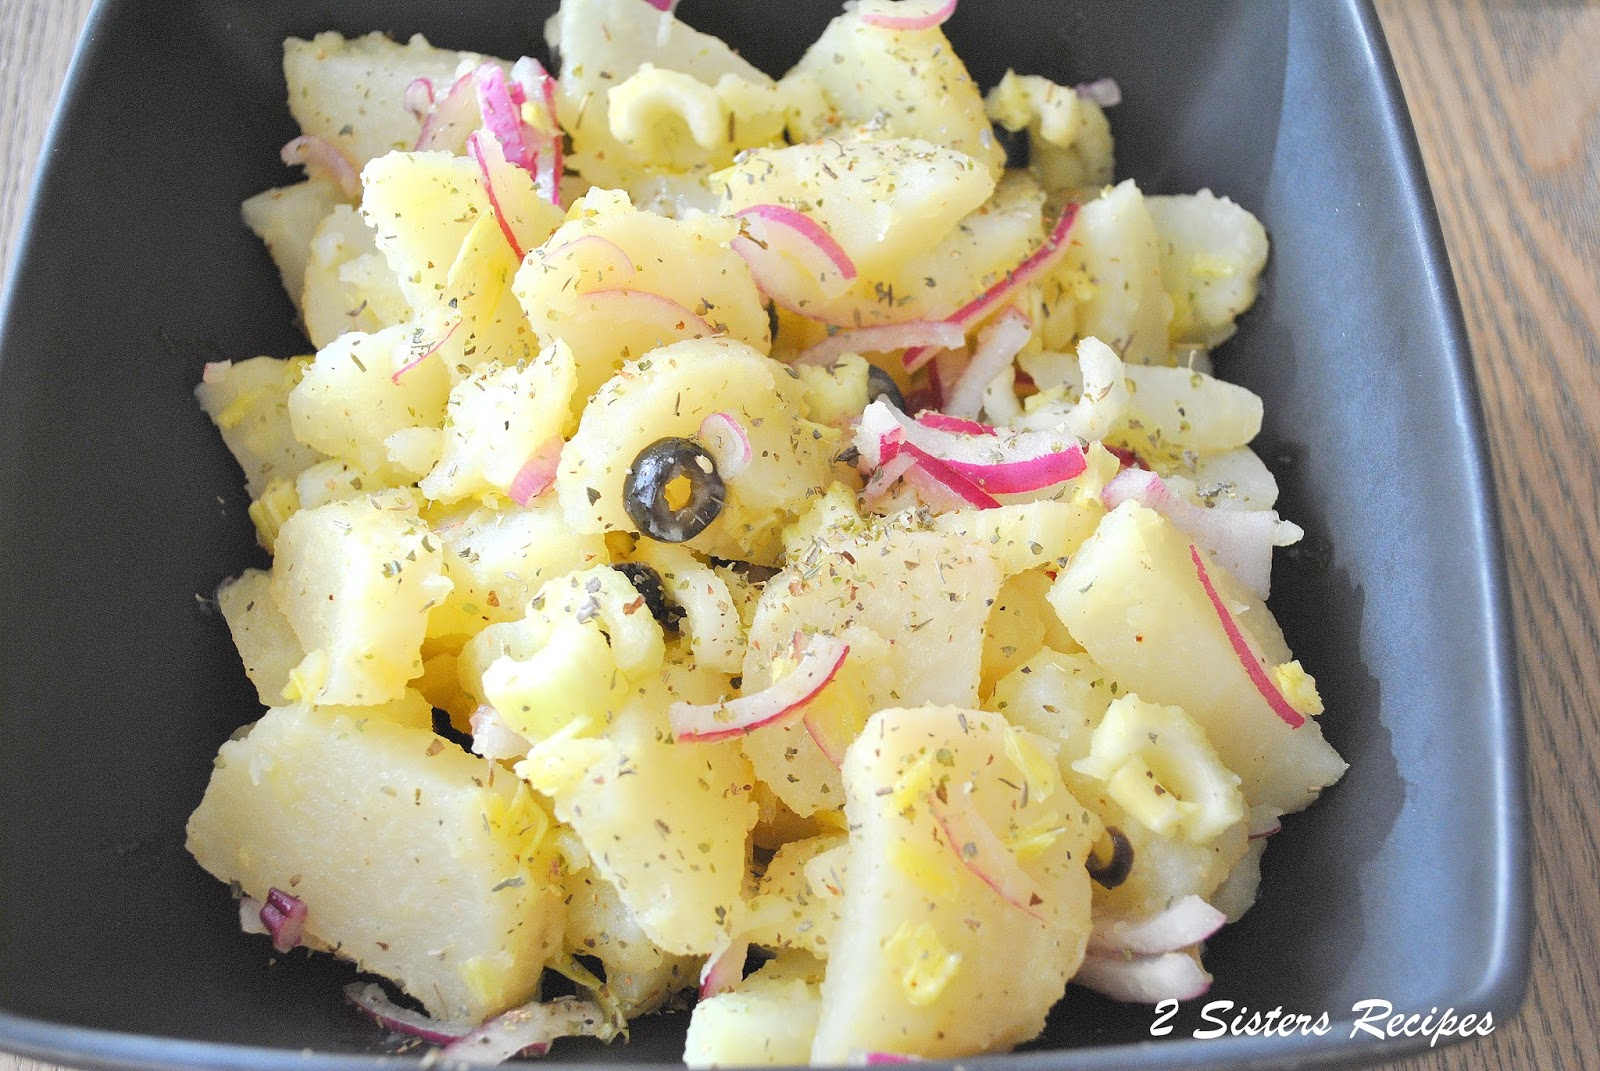boiled potatoes: (324, 108, 1188, 963)
